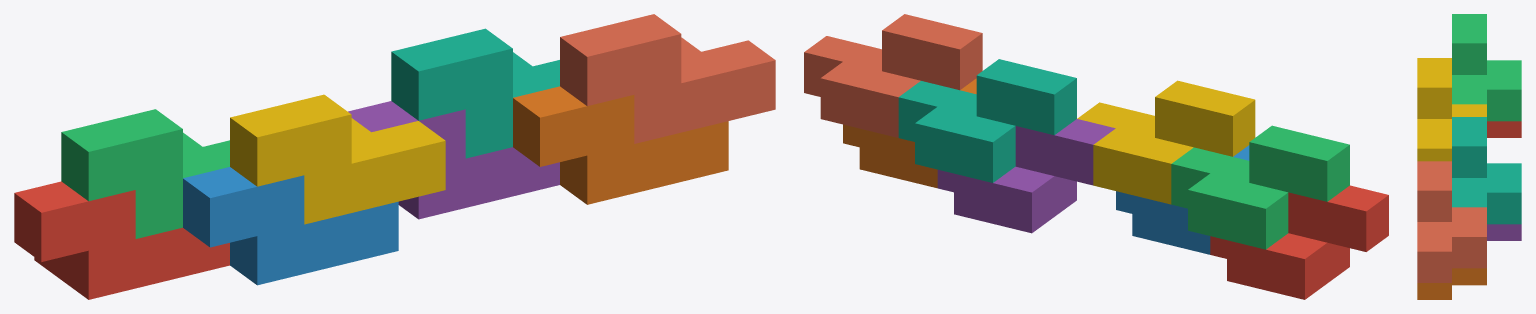
Rendered from tiling.obj.
3 views of the same model, side by side, from view 1: azimuth 30°, elevation 25°; view 2: azimuth 150°, elevation 25°; view 3: azimuth 270°, elevation 25° (orthographic). The views are drawn at different scales.
Parts seen in each view (by area): view 1: copy_1_domain_4, copy_1_domain_8, copy_1_domain_6, copy_1_domain_2, copy_1_domain_1, copy_1_domain_3, copy_1_domain_7, copy_1_domain_5; view 2: copy_1_domain_7, copy_1_domain_3, copy_1_domain_8, copy_1_domain_4, copy_1_domain_1, copy_1_domain_5, copy_1_domain_2, copy_1_domain_6; view 3: copy_1_domain_8, copy_1_domain_3, copy_1_domain_7, copy_1_domain_4, copy_1_domain_6, copy_1_domain_1, copy_1_domain_5.
Part boxes in pixels (left/top/right/bottom): copy_1_domain_4: left=230, top=94, right=445, bottom=224; copy_1_domain_8: left=560, top=14, right=775, bottom=143; copy_1_domain_6: left=513, top=86, right=728, bottom=204; copy_1_domain_2: left=183, top=167, right=398, bottom=285; copy_1_domain_1: left=14, top=181, right=229, bottom=299; copy_1_domain_3: left=61, top=109, right=229, bottom=238; copy_1_domain_7: left=391, top=28, right=559, bottom=158; copy_1_domain_5: left=348, top=101, right=559, bottom=219; copy_1_domain_7: left=898, top=59, right=1076, bottom=182; copy_1_domain_3: left=1171, top=125, right=1349, bottom=249; copy_1_domain_8: left=804, top=14, right=982, bottom=137; copy_1_domain_4: left=1077, top=80, right=1255, bottom=204; copy_1_domain_1: left=1210, top=185, right=1388, bottom=299; copy_1_domain_5: left=937, top=119, right=1115, bottom=233; copy_1_domain_2: left=1116, top=145, right=1249, bottom=254; copy_1_domain_6: left=843, top=78, right=976, bottom=188; copy_1_domain_8: left=1417, top=161, right=1486, bottom=282; copy_1_domain_3: left=1452, top=14, right=1521, bottom=121; copy_1_domain_7: left=1452, top=117, right=1521, bottom=224; copy_1_domain_4: left=1417, top=58, right=1486, bottom=161; copy_1_domain_6: left=1417, top=268, right=1486, bottom=299; copy_1_domain_1: left=1487, top=121, right=1521, bottom=137; copy_1_domain_5: left=1487, top=224, right=1521, bottom=240.
Bounding box in the file's own units: 15 × 3 × 3.
